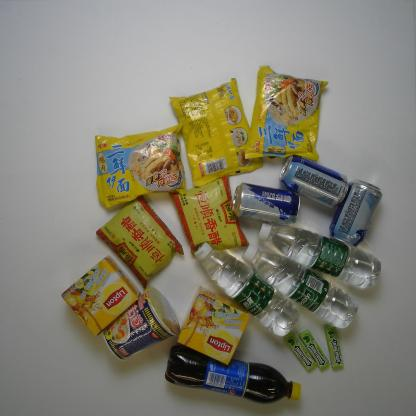Alcohol: (274, 148, 351, 209), (328, 178, 380, 246), (230, 181, 300, 226)
Drink: (191, 241, 300, 340), (242, 241, 360, 329), (254, 223, 382, 292), (164, 343, 301, 405)
Gum: (282, 328, 317, 372), (298, 329, 330, 370), (322, 326, 344, 369)
Instant Drink: (61, 256, 141, 336), (177, 288, 249, 367)
Instant Noodles: (170, 78, 263, 186), (243, 59, 330, 162), (92, 122, 190, 206), (101, 288, 182, 362)
Seasoner: (98, 195, 184, 285), (166, 174, 249, 258)
